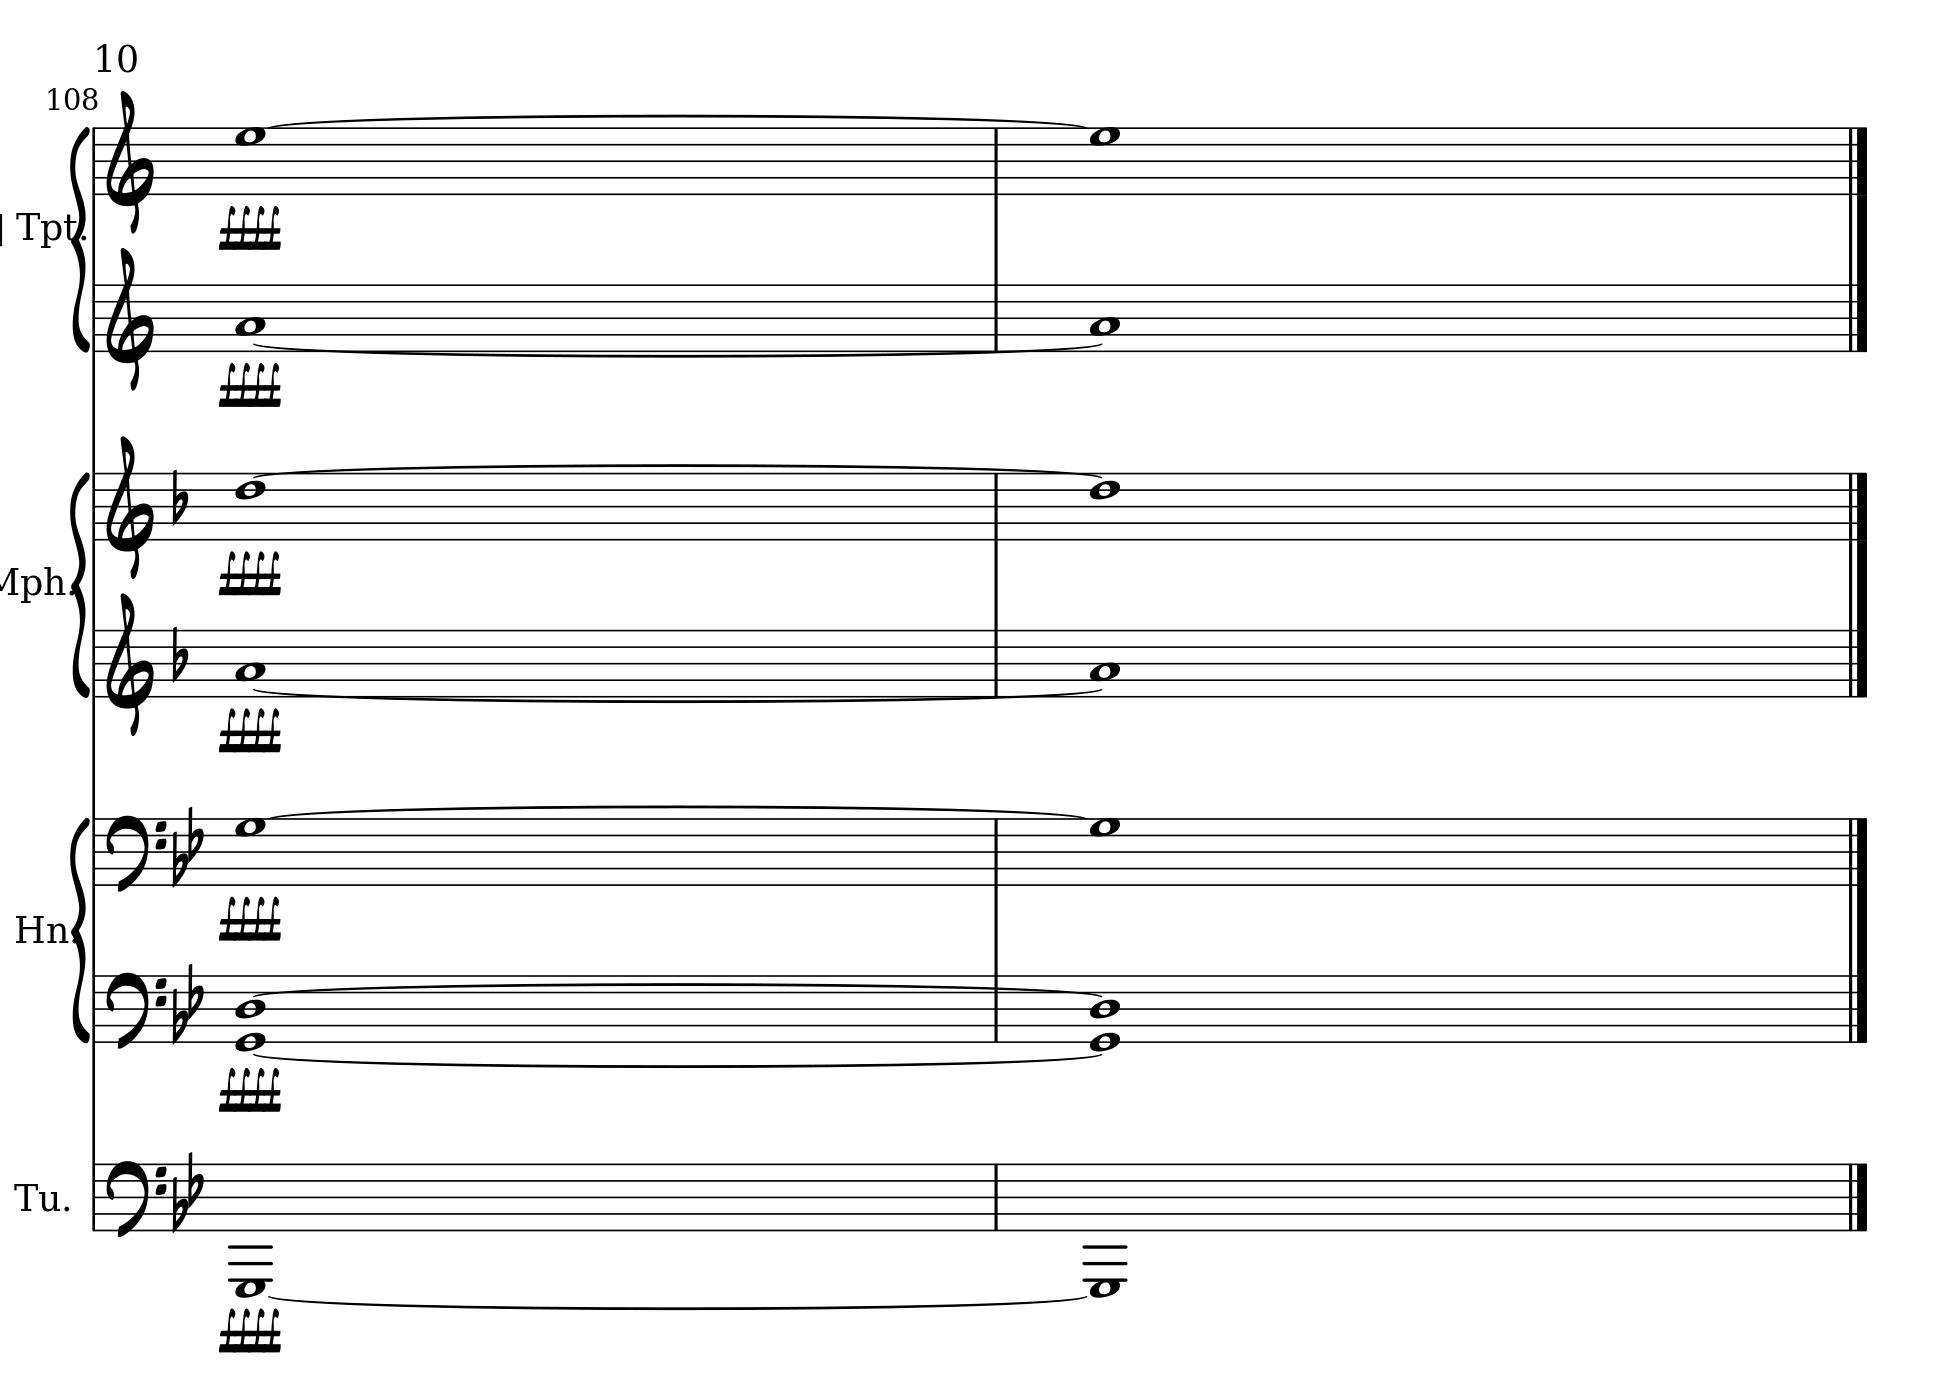0: (115, 40, 136, 73), (63, 84, 79, 112)
1: (94, 40, 112, 73), (46, 84, 61, 112)
1_-7: (229, 1161, 271, 1300), (1086, 1158, 1128, 1297)
1_1_4: (231, 973, 268, 1054), (1089, 972, 1123, 1056)
1_3: (1090, 280, 1122, 352), (1090, 625, 1122, 697), (235, 280, 265, 352), (235, 625, 265, 697)
1_6: (232, 471, 267, 541), (1089, 469, 1122, 543)
1_7: (232, 124, 268, 195), (232, 816, 268, 886), (1089, 124, 1122, 196), (1089, 816, 1122, 886)
8: (81, 85, 97, 112)
B_F: (169, 1147, 204, 1233), (169, 961, 202, 1045), (171, 804, 204, 886)
Brace: (70, 468, 90, 700), (70, 123, 90, 352), (70, 813, 90, 1042)
Fclef: (103, 969, 166, 1051), (103, 1158, 166, 1239), (105, 813, 166, 892)
Final_barline: (1843, 471, 1872, 538), (1843, 816, 1872, 883), (1843, 1161, 1870, 1228), (1843, 973, 1869, 1042), (1845, 126, 1870, 193), (1843, 283, 1869, 351), (1843, 628, 1869, 696)
Flat: (169, 466, 190, 526), (169, 622, 189, 682)
Gclef: (103, 244, 154, 391), (103, 87, 154, 232), (103, 591, 154, 736), (103, 433, 154, 577)
Hn: (16, 910, 67, 946)
Single_barline: (987, 628, 1006, 696), (987, 283, 1006, 349), (987, 127, 1005, 193), (987, 472, 1005, 538), (987, 817, 1005, 883), (988, 973, 1005, 1039), (988, 1164, 1005, 1228), (88, 472, 102, 540), (88, 817, 102, 883), (87, 1164, 100, 1230), (88, 127, 100, 195), (88, 285, 100, 349), (88, 631, 100, 696), (88, 976, 100, 1039)
Slur: (250, 342, 1105, 361), (250, 688, 1110, 706), (267, 1294, 1089, 1312), (250, 463, 1104, 480), (253, 1053, 1104, 1069), (249, 982, 1107, 997), (264, 804, 1090, 819), (267, 112, 1083, 127)
Tpt: (12, 205, 76, 250)
fff: (217, 1063, 282, 1111)
ffff: (217, 1303, 280, 1351), (216, 894, 282, 939), (217, 706, 282, 751), (217, 202, 280, 247), (217, 361, 280, 405), (217, 549, 280, 592)
